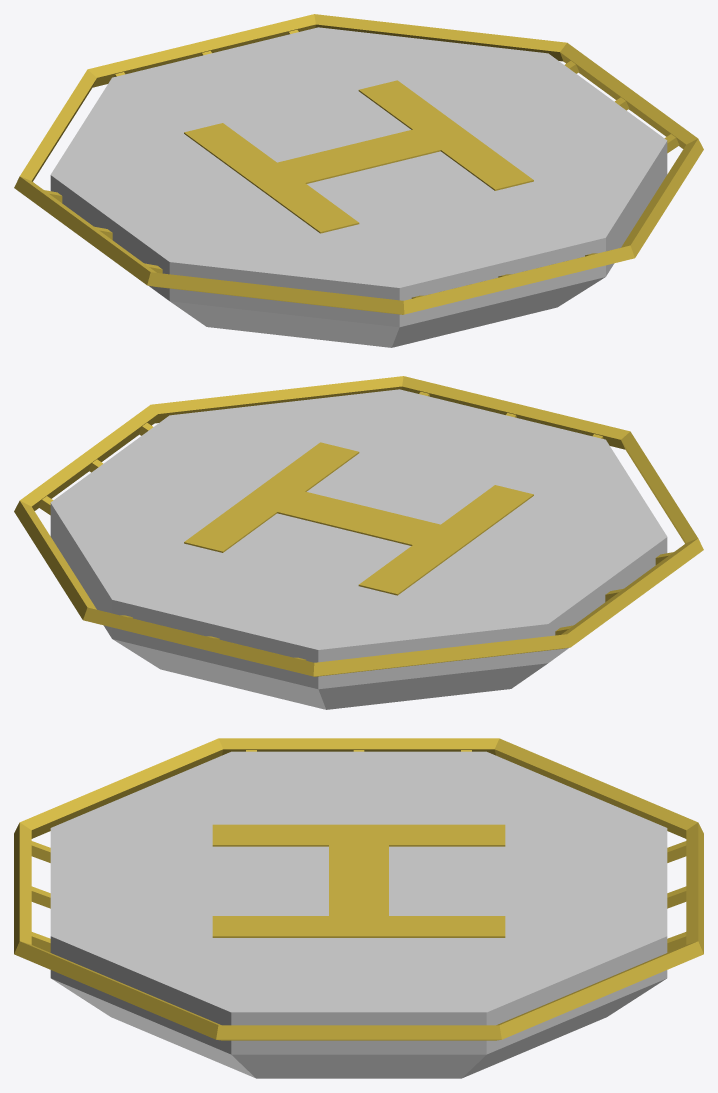
Rendered from Helipad.fbx.
3 views of the same model, one above another, from view 1: azimuth 30°, elevation 25°; view 2: azimuth 150°, elevation 25°; view 3: azimuth 270°, elevation 25° (orthographic). The views are drawn at different scales.
Parts seen in each view (by area): view 1: Circle; view 2: Circle; view 3: Circle.
Boxes of the visible parts, <box> form: Circle: <box>14,14,703,347</box>; Circle: <box>14,376,703,709</box>; Circle: <box>14,738,703,1078</box>.
Bounding box in the file's own units: 620 × 92.37 × 620.
